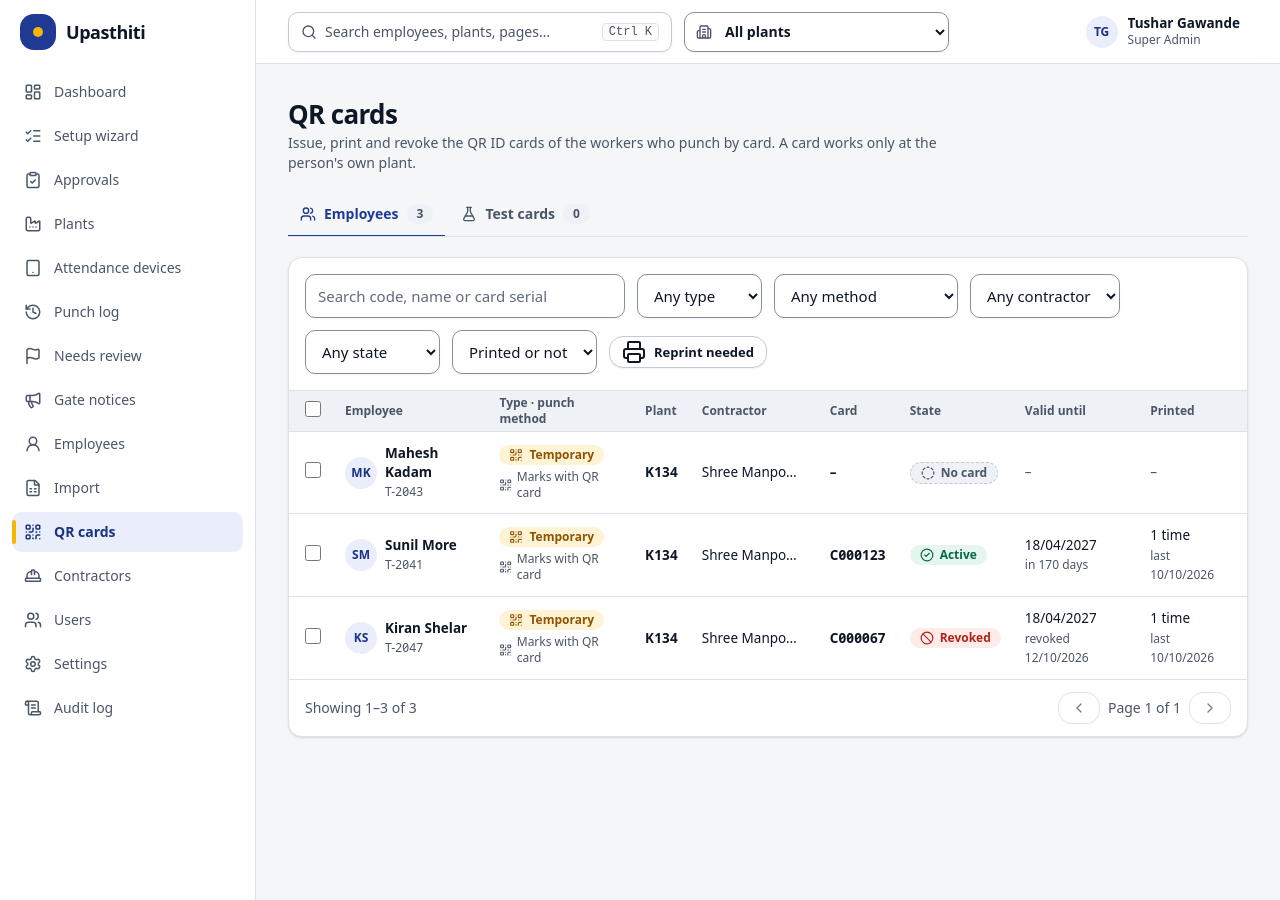
Test: selecting people › disables a button that would do nothing
Click the checkbox named "Select Kiran Shelar": [313, 636] box [305,628,321,644]
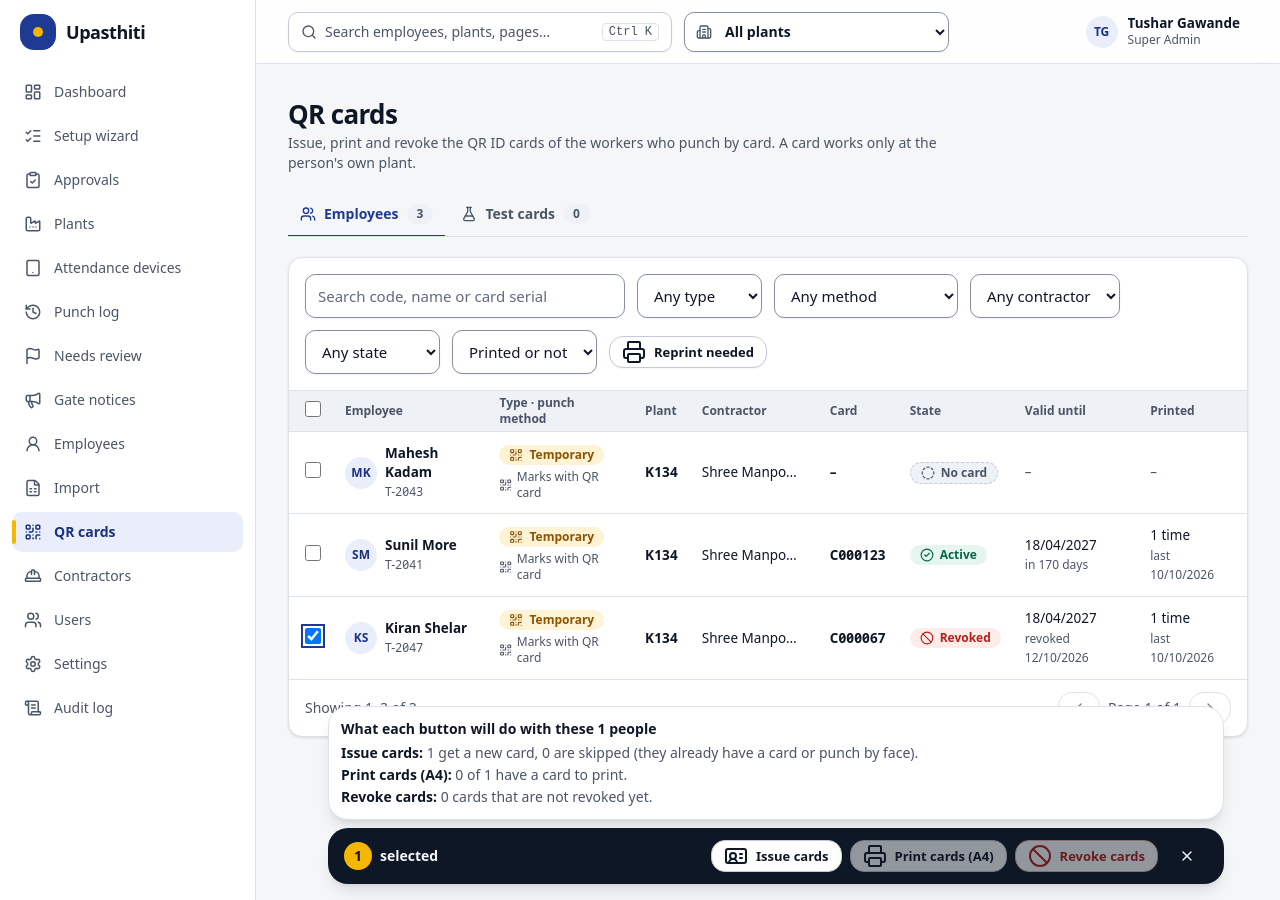
Now the button "Issue cards" is enabled, box [711,840,842,872]
Now the button "Print cards (A4)" is disabled, box [850,840,1007,872]
Now the button "Revoke cards" is disabled, box [1015,840,1158,872]
